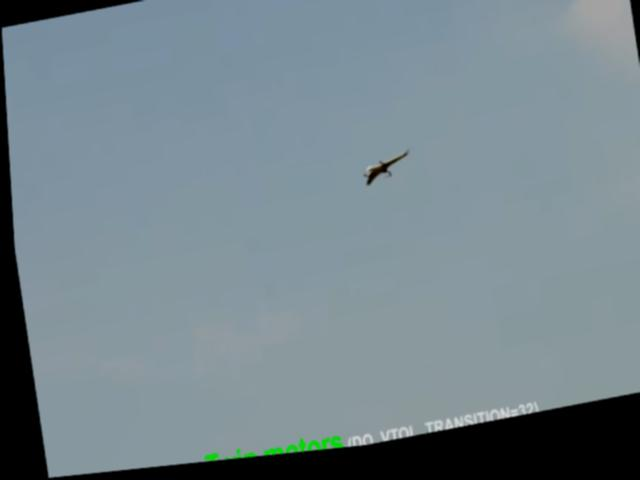plane: (355, 157, 411, 195)
